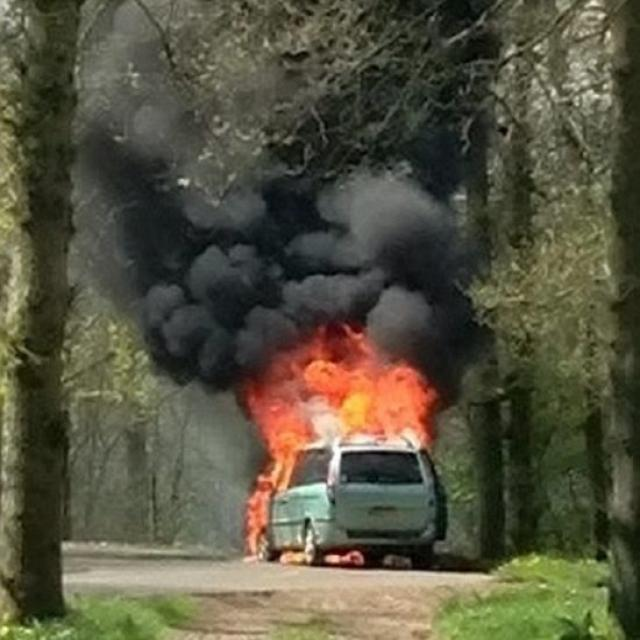fire: (237, 327, 440, 568)
smoke: (79, 7, 501, 385)
